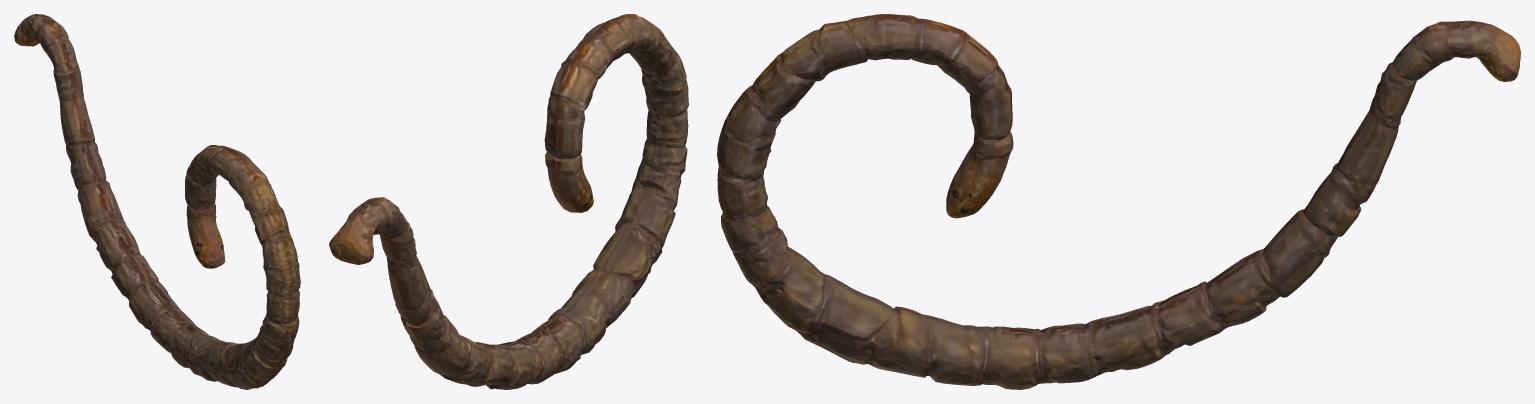
Rendered from Dried Worm.fbx.
3 renders of one model, left to right at view 1: azimuth 30°, elevation 25°; view 2: azimuth 150°, elevation 25°; view 3: azimuth 270°, elevation 25°, orthographic. The views are drawn at different scales.
Parts seen in each view (by area): view 1: temp; view 2: temp; view 3: temp.
Part boxes in pixels (<box>): temp: <box>14,14,300,389</box>; temp: <box>329,14,688,389</box>; temp: <box>717,14,1520,389</box>.
Size of the model in its own units: 16.23 by 102 by 200.
1 material, 1 textured.
